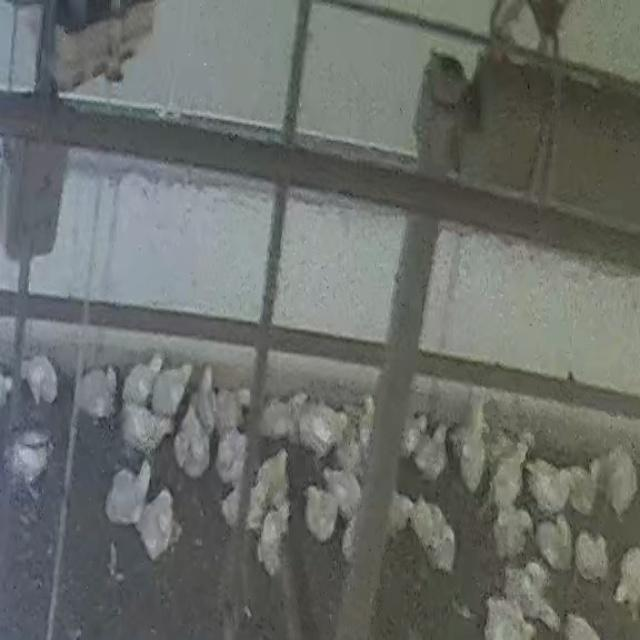chicken: (501, 563, 553, 631), (415, 501, 458, 573), (248, 450, 288, 522), (105, 463, 151, 522), (138, 489, 176, 559), (526, 460, 575, 514), (120, 403, 167, 456), (295, 400, 341, 454), (604, 445, 638, 517), (491, 442, 526, 510), (150, 364, 193, 418), (176, 403, 210, 469), (324, 466, 364, 522), (77, 367, 118, 421), (8, 437, 51, 488), (258, 508, 290, 576), (457, 423, 488, 493), (214, 427, 248, 487), (223, 481, 268, 525), (484, 596, 530, 639), (304, 488, 340, 542), (23, 356, 60, 408), (385, 485, 419, 540), (575, 530, 610, 583), (123, 354, 160, 404), (535, 521, 572, 571), (257, 396, 296, 442), (492, 510, 528, 559), (194, 369, 218, 437), (412, 433, 446, 478), (567, 468, 597, 519), (212, 388, 246, 432), (333, 431, 366, 475), (616, 548, 640, 605), (402, 415, 424, 459)
